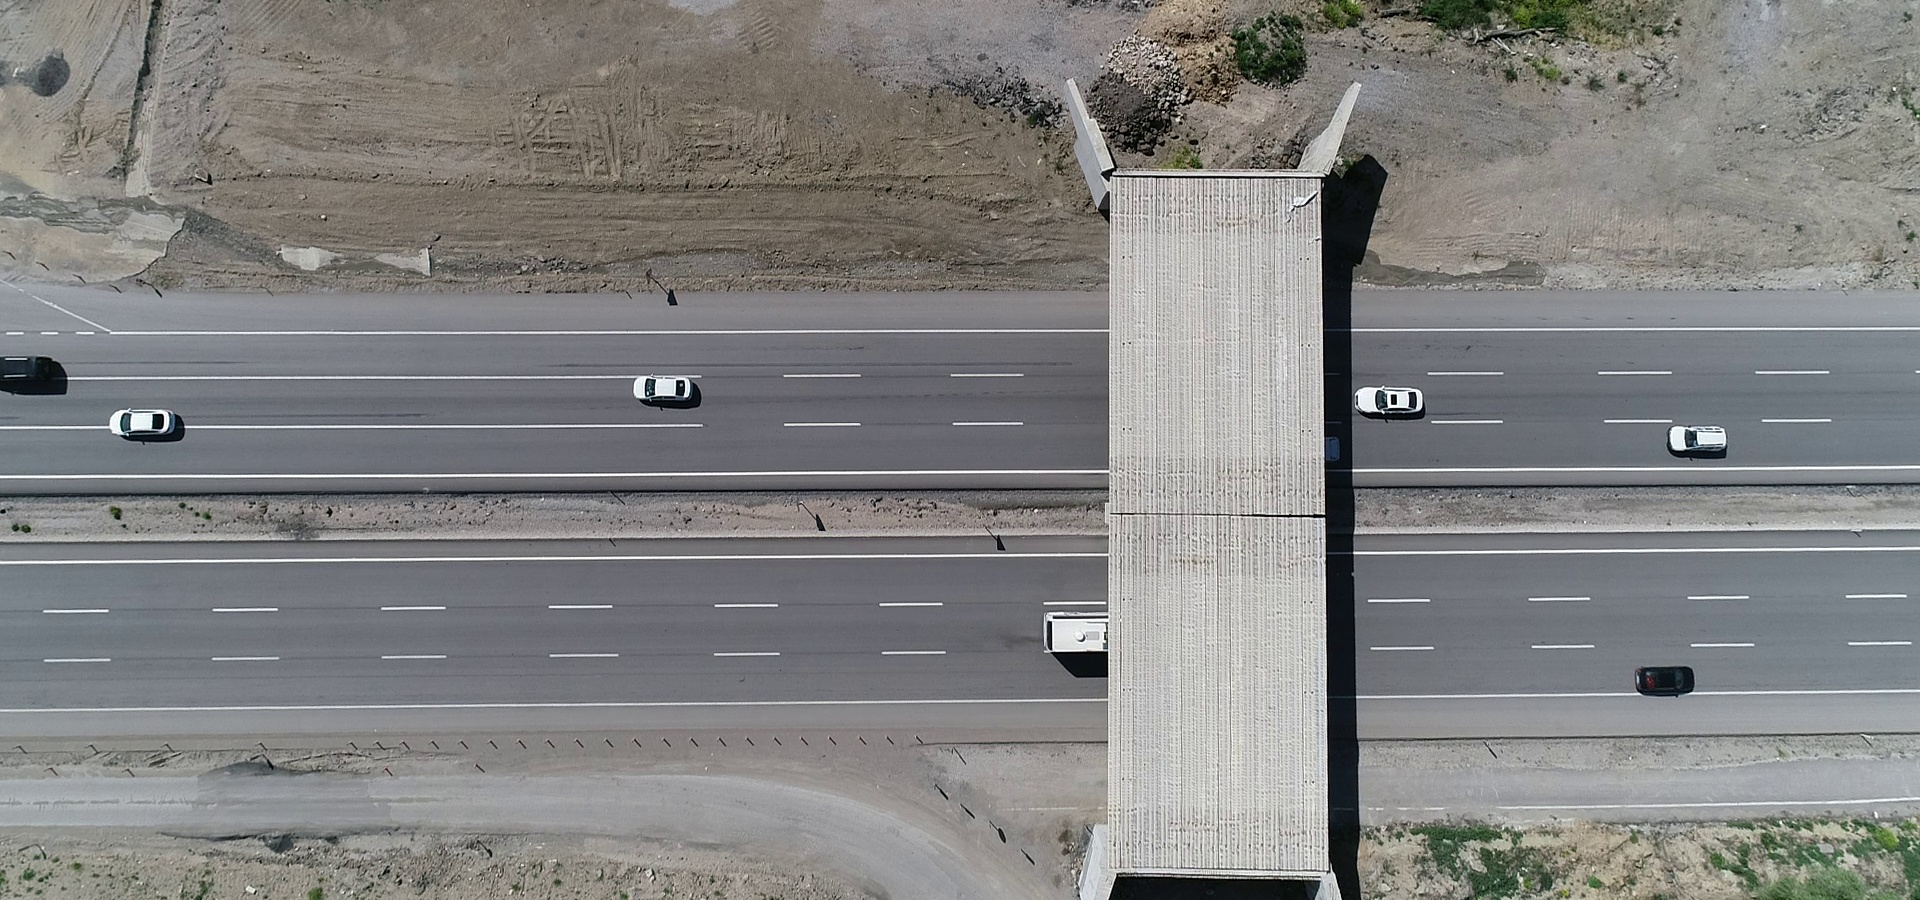arac: (1037, 602, 1107, 665), (98, 403, 196, 438), (1353, 378, 1433, 421), (1, 345, 66, 391), (1641, 658, 1704, 703), (1667, 418, 1739, 453), (632, 371, 698, 408)
